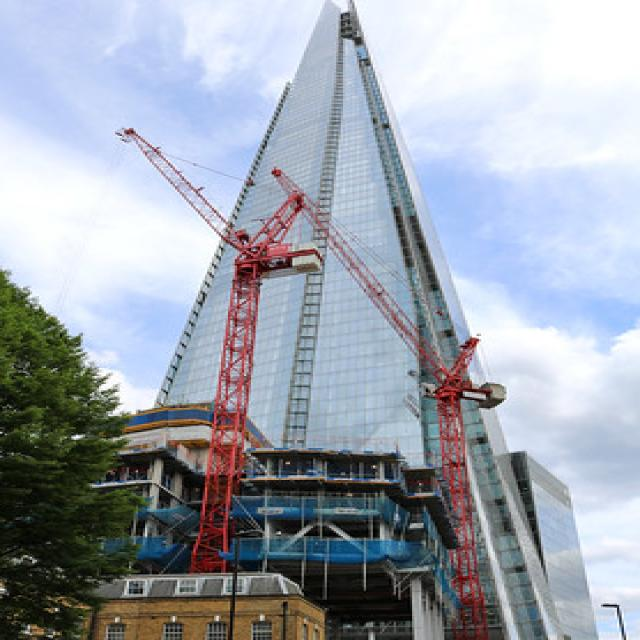building: (75, 0, 572, 637)
